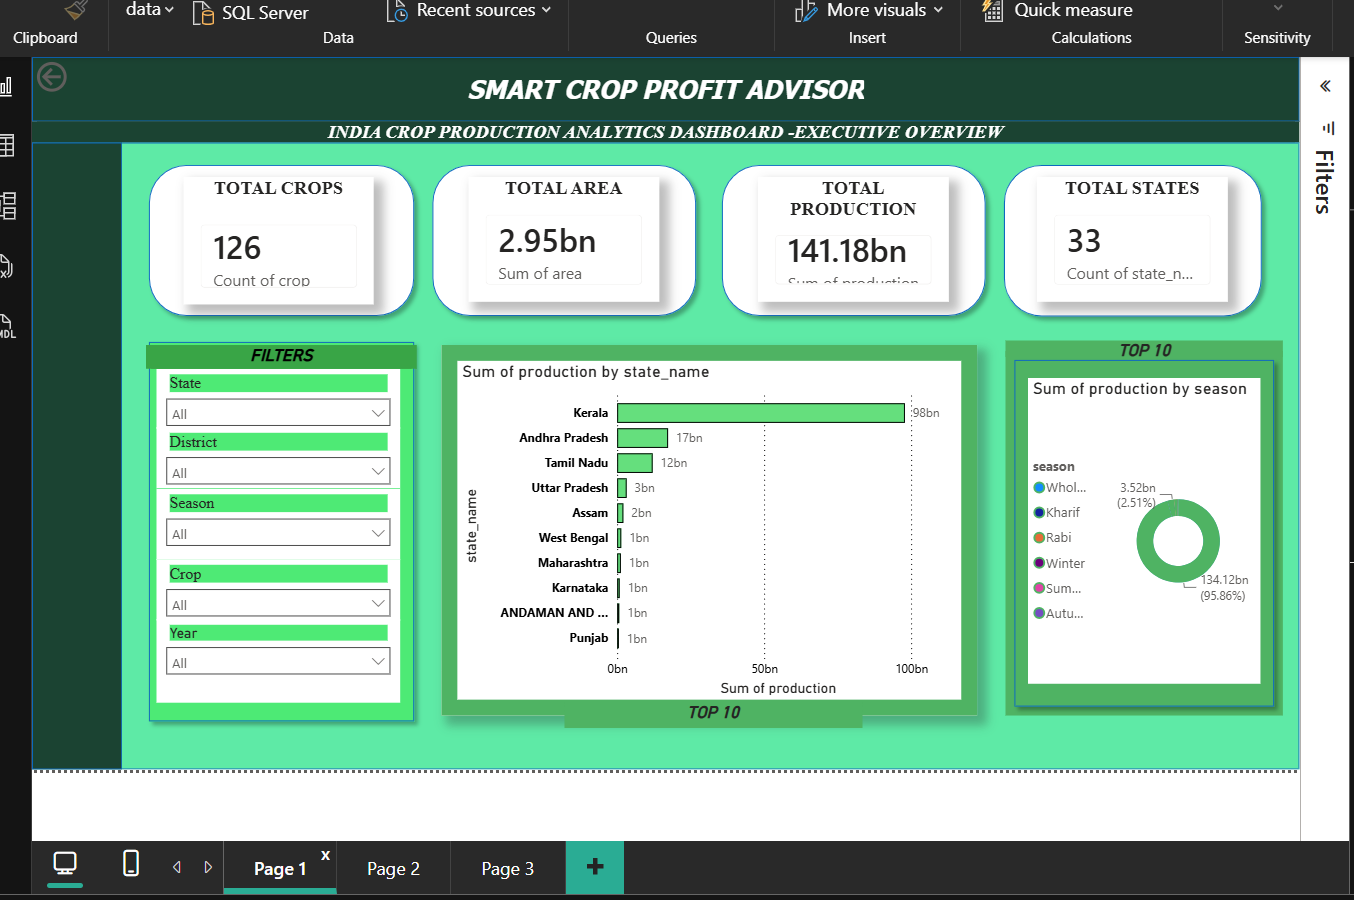

The dashboard page shown, as its layout file describes it:
{"tool":"powerbi","page":{"name":"Page 1","canvas":[1280,720],"ordinal":0},"visuals":[{"type":"shape","box":[0,0,1279.5,65.1],"z":0},{"type":"textbox","title":"INDIA CROP PRODUCTION ANALYTICS DASHBOARD -EXECUTIVE OVERVIEW","box":[0,65.1,1279.5,21.2],"z":1000},{"type":"shape","box":[0,86.3,1279.5,632.9],"z":2000},{"type":"shape","box":[686.9,99.5,284.2,170.5],"z":3000},{"type":"shape","box":[108.9,99.5,285.8,170.5],"z":4000},{"type":"shape","box":[394.7,99.5,284.2,170.5],"z":5000},{"type":"shape","box":[0,86.3,90.9,632.9],"z":6000},{"type":"cardVisual","title":"TOTAL PRODUCTION","fields":{"Data":["Sum(public crop_production.production)"]},"box":[732.6,121.6,192.6,126.3],"z":7000},{"type":"cardVisual","title":"TOTAL AREA","fields":{"Data":["Sum(public crop_production.area)"]},"box":[440.5,121.6,192.6,126.3],"z":8000},{"type":"cardVisual","title":"TOTAL CROPS","fields":{"Data":["Count(public crop_production.crop)"]},"box":[152.9,121.1,192.3,128.7],"z":9000},{"type":"shape","box":[971.7,99.5,278.3,171],"z":10000},{"type":"shape","box":[108.9,277.9,285.8,401.1],"z":11000},{"type":"textbox","title":"FILTERS","box":[115.3,290.5,273.2,23.7],"z":12000},{"type":"actionButton","box":[0,0,100,40],"z":13000},{"type":"slicer","fields":{"Values":["public crop_production.state_name"]},"box":[126.3,314.2,246.3,60],"z":14000},{"type":"slicer","fields":{"Values":["public crop_production.district_name"]},"box":[126.3,374.2,246.3,61.6],"z":15000},{"type":"slicer","fields":{"Values":["public crop_production.crop"]},"box":[126.3,506.8,246.3,61.6],"z":16000},{"type":"slicer","fields":{"Values":["public crop_production.season"]},"box":[126.3,435.8,246.3,71.1],"z":17000},{"type":"slicer","fields":{"Values":["public crop_production.crop_year"]},"box":[126.3,568.4,246.3,83.7],"z":18000},{"type":"clusteredBarChart","fields":{"Category":["public crop_production.state_name"],"Y":["Sum(public crop_production.production)"]},"box":[413.9,291,540.5,374.2],"z":19000},{"type":"cardVisual","title":"TOTAL STATES","fields":{"Data":["Count(public crop_production.state_name)"]},"box":[1015.2,121.3,192.8,125.9],"z":20000},{"type":"shape","box":[982.7,296.8,280.1,368],"z":21000},{"type":"donutChart","fields":{"Y":["Sum(public crop_production.production)"],"Category":["public crop_production.season"]},"box":[1005.4,324,234.7,308.9],"z":22000},{"type":"textbox","title":"TOP 10","box":[982.7,286.2,280.1,16.7],"z":23000},{"type":"textbox","title":"TOP 10","box":[537.5,651.1,299.8,25.7],"z":24000}]}

Visuals, with their boxes on the page's 1280x720 design canvas (x1, y1, x2, y2). These are canvas units, not pixel positions in the 1354x900 screenshot, which may show the page scaled, cropped or inside an application window:
shape: [0,0,1280,65]
"INDIA CROP PRODUCTION ANALYTICS DASHBOARD -EXECUTIVE OVERVIEW" textbox: [0,65,1280,86]
shape: [0,86,1280,719]
shape: [687,100,971,270]
shape: [109,100,395,270]
shape: [395,100,679,270]
shape: [0,86,91,719]
"TOTAL PRODUCTION" cardVisual: [733,122,925,248]
"TOTAL AREA" cardVisual: [440,122,633,248]
"TOTAL CROPS" cardVisual: [153,121,345,250]
shape: [972,100,1250,270]
shape: [109,278,395,679]
"FILTERS" textbox: [115,290,388,314]
actionButton: [0,0,100,40]
slicer - public crop_production.state_name: [126,314,373,374]
slicer - public crop_production.district_name: [126,374,373,436]
slicer - public crop_production.crop: [126,507,373,568]
slicer - public crop_production.season: [126,436,373,507]
slicer - public crop_production.crop_year: [126,568,373,652]
clusteredBarChart - public crop_production.state_name x Sum(public crop_production.production): [414,291,954,665]
"TOTAL STATES" cardVisual: [1015,121,1208,247]
shape: [983,297,1263,665]
donutChart - Sum(public crop_production.production) x public crop_production.season: [1005,324,1240,633]
"TOP 10" textbox: [983,286,1263,303]
"TOP 10" textbox: [538,651,837,677]
